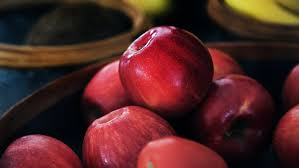apple: (1, 135, 84, 168)
